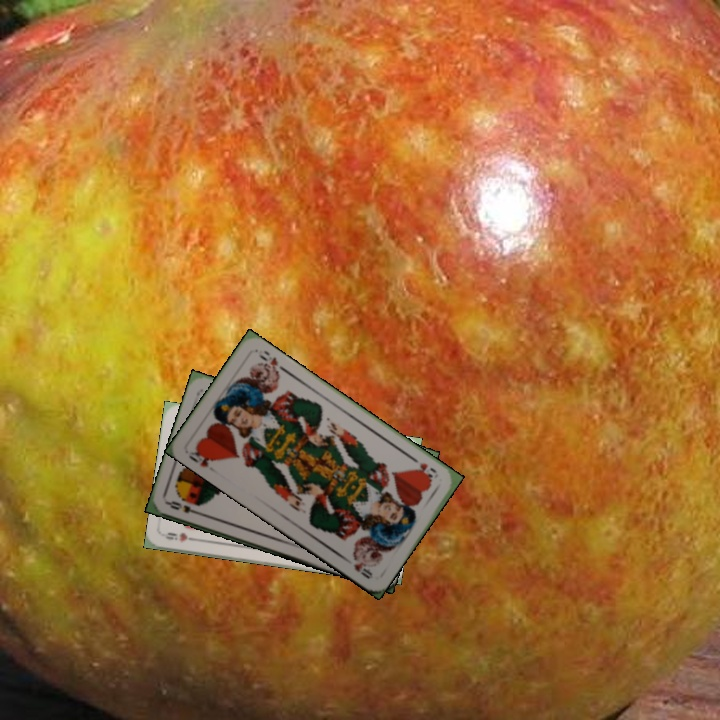H9: (160, 528, 201, 545)
HO: (184, 444, 218, 475), (408, 453, 439, 483)
SO: (163, 497, 203, 517)
